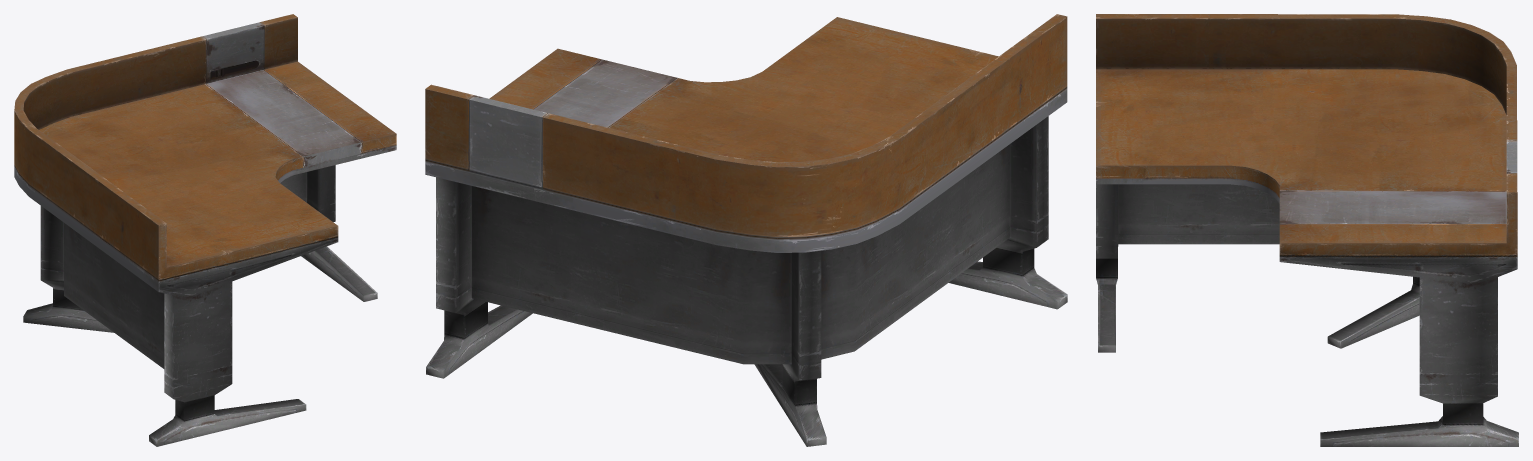
File: Desk01_Corner_Worn.FBX
The picture shows the model from 3 angles, left to right: view 1: azimuth 30°, elevation 25°; view 2: azimuth 150°, elevation 25°; view 3: azimuth 270°, elevation 25°; orthographic projection. The views are drawn at different scales.
Parts seen in each view (by area): view 1: Desk01_Corner_Worn; view 2: Desk01_Corner_Worn; view 3: Desk01_Corner_Worn.
Part boxes in pixels (box(x1,y1,x2,y2)): Desk01_Corner_Worn: box(14, 14, 396, 446); Desk01_Corner_Worn: box(425, 14, 1067, 446); Desk01_Corner_Worn: box(1096, 14, 1518, 446).
Size of the model in its own units: 1.5 by 0.9976 by 1.5.
